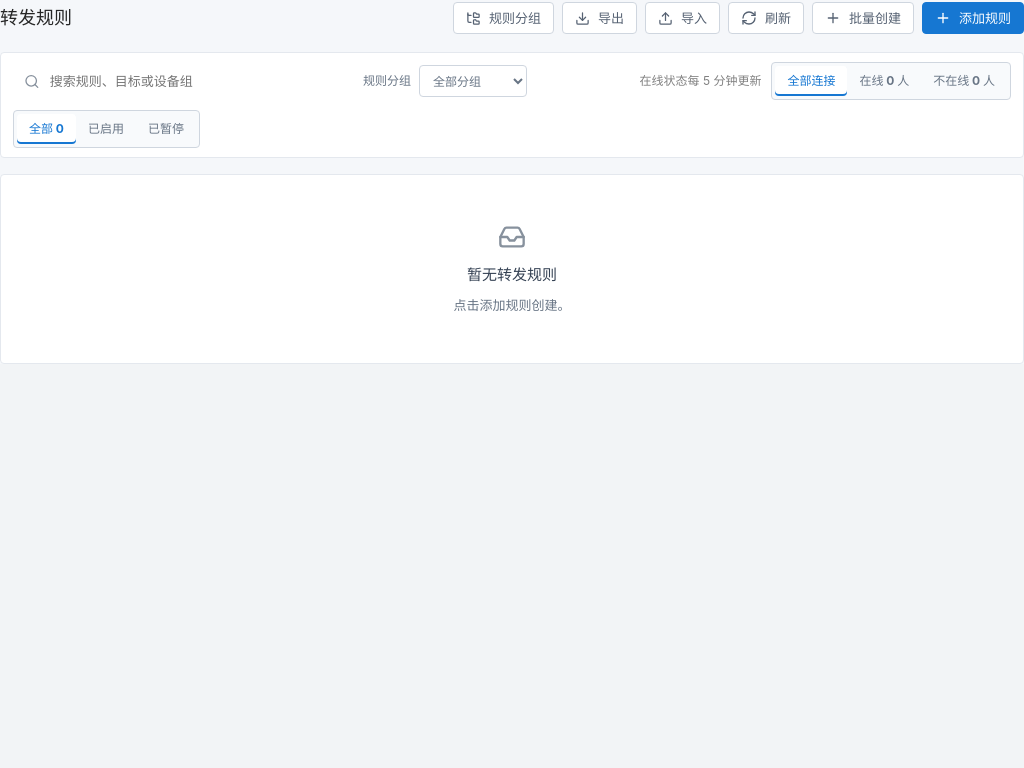
Scenario: ForwardRulesPage › does not depend on loading customers to open the rule editor
What coordinates should you click on to do the following:
click the button "添加规则"
I would click on:
 (973, 18)
Its box is [922, 2, 1023, 34].
(page scrolled)
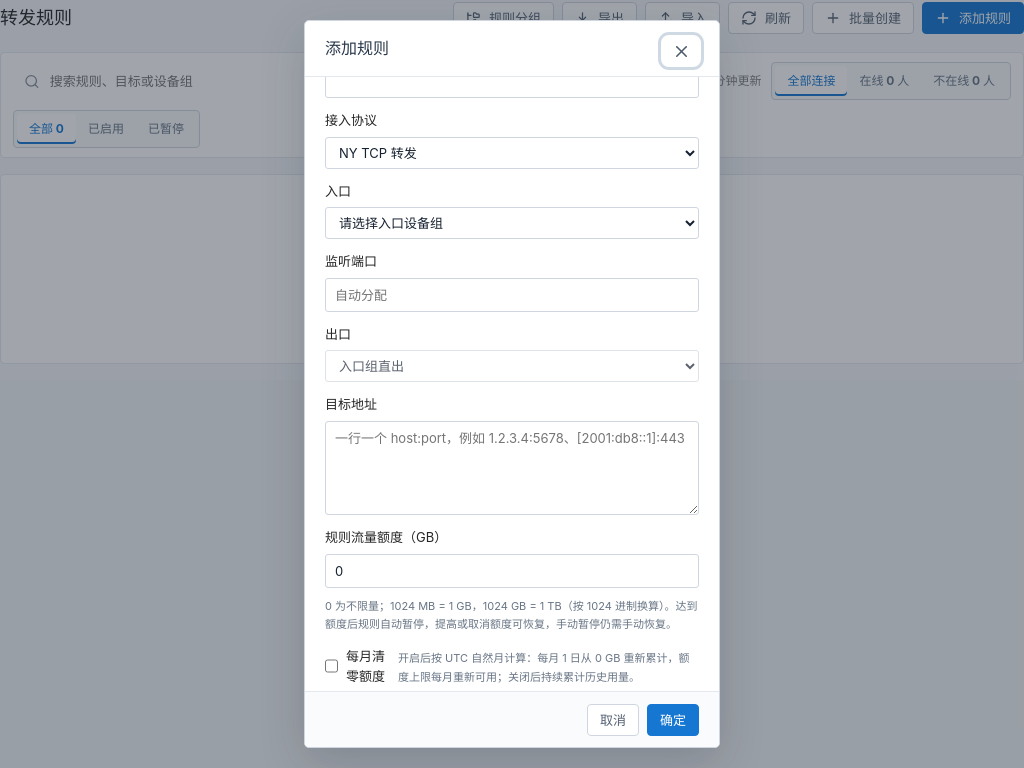
Expected: the form with id "forward-rule-editor" is shown, [325, 77, 699, 691]
